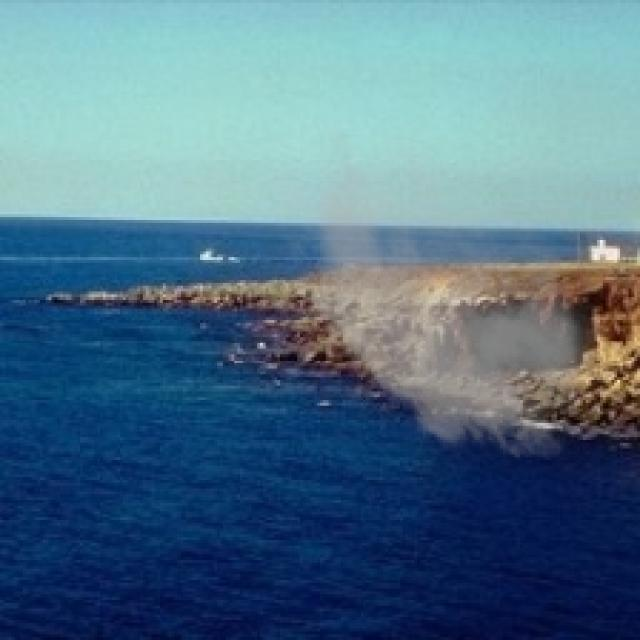Smoke: (266, 114, 620, 472)
